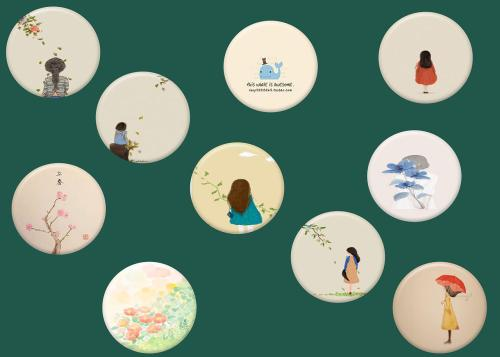ImgView: (1, 1, 499, 356)
